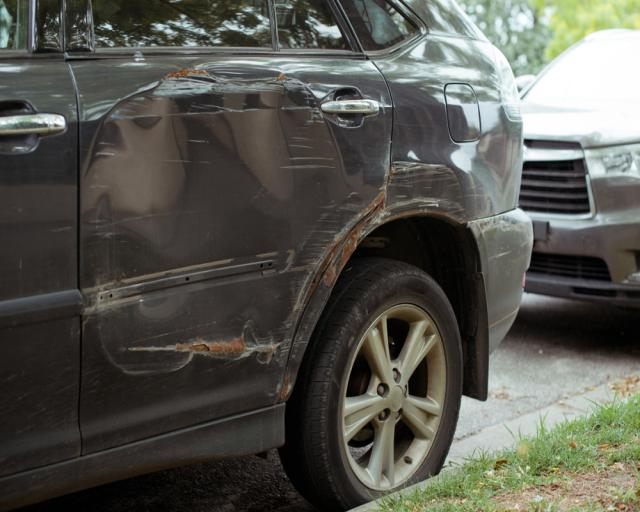dent: (81, 63, 375, 374)
scratch: (388, 160, 471, 220)
